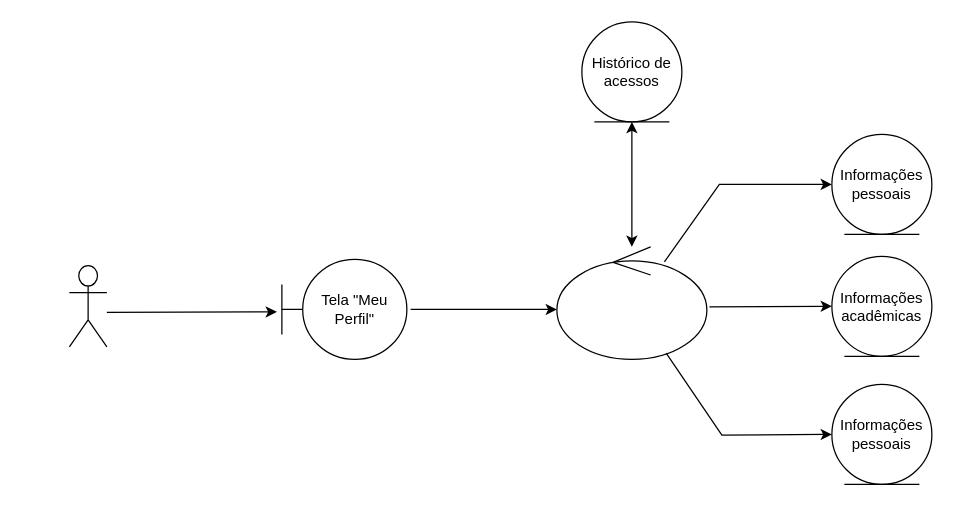
This 954x506 diagram has some shape labels left out. Each missing label, with the centre of its shape:
Controlador "Meu Perfil": (x=631, y=302)
Usuário Cadastrado: (x=87, y=305)
